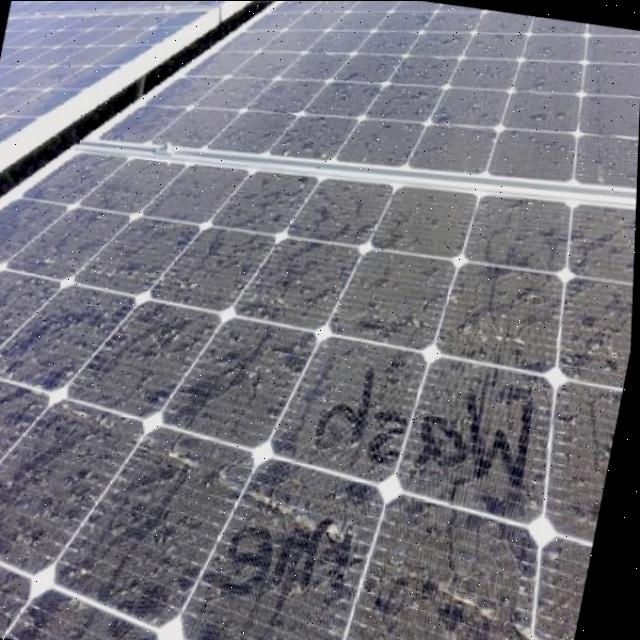Anomaly Solar Panel: (0, 150, 638, 640)
Surface Contaminant: (0, 109, 640, 640)
